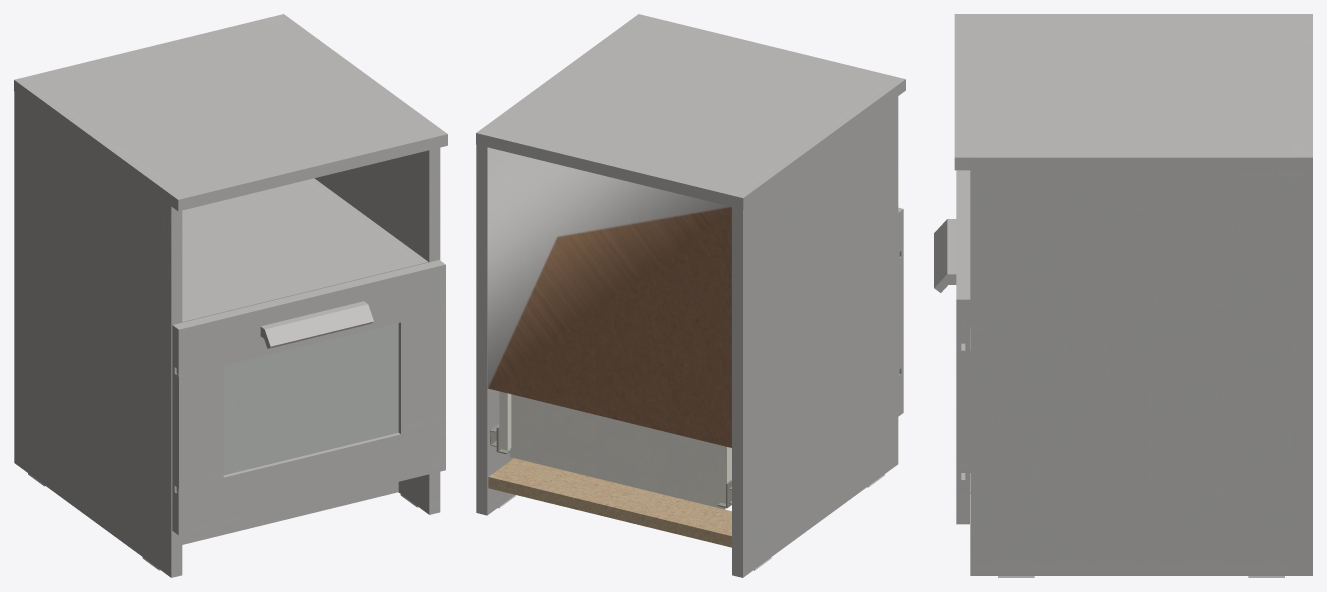
The model's file is brimnes_nightstand_gray.glb.
3 renders of one model, left to right at view 1: azimuth 30°, elevation 25°; view 2: azimuth 150°, elevation 25°; view 3: azimuth 270°, elevation 25°, orthographic. The views are drawn at different scales.
Parts seen in each view (by area): view 1: 40598257_Bedside_table:1, 40598257_Bedside_table:7, 40598257_Bedside_table:6, 40598257_Bedside_table:2; view 2: 40598257_Bedside_table:1, 40598257_Bedside_table:4, 40598257_Bedside_table:3, 40598257_Bedside_table:5, 40598257_Bedside_table:2; view 3: 40598257_Bedside_table:1, 40598257_Bedside_table:2, 40598257_Bedside_table:6.
Part boxes in pixels (x1,y1,x2,y2): 40598257_Bedside_table:1: [14, 14, 447, 577]; 40598257_Bedside_table:7: [223, 323, 398, 475]; 40598257_Bedside_table:6: [260, 301, 373, 348]; 40598257_Bedside_table:2: [14, 80, 178, 534]; 40598257_Bedside_table:1: [476, 14, 905, 577]; 40598257_Bedside_table:4: [487, 147, 731, 447]; 40598257_Bedside_table:3: [499, 391, 731, 509]; 40598257_Bedside_table:5: [488, 458, 731, 547]; 40598257_Bedside_table:2: [743, 79, 905, 416]; 40598257_Bedside_table:1: [954, 14, 1312, 575]; 40598257_Bedside_table:2: [954, 157, 1312, 524]; 40598257_Bedside_table:6: [934, 219, 956, 292].
Bounding box in the file's own units: 0.3909 × 0.534 × 0.4355.
2 materials, 2 textured.
